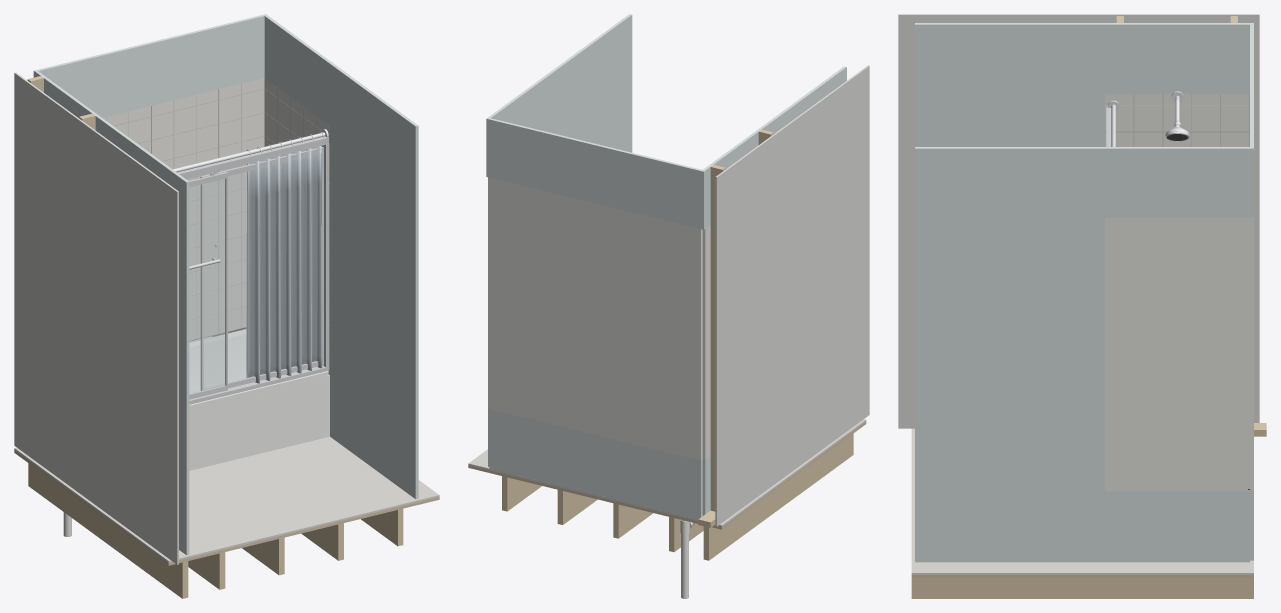
File: shower_slab.glb
3 renders of one model, left to right at view 1: azimuth 30°, elevation 25°; view 2: azimuth 150°, elevation 25°; view 3: azimuth 270°, elevation 25°, orthographic. The views are drawn at different scales.
Visible parts, largest first — view 1: wall_outside, walls_paint, door_glass, floor, wall_back, shower_curtain, glass_doors, tub_apron, joists, tub, wall_right, curtain_rod; view 2: wall_outside, wall_back, walls_paint, joists, framing, floor, valve_wall; view 3: walls_paint, wall_right, wall_outside, joists, valve_wall, floor, wall_back.
Part boxes in pixels (<box>): wall_outside: <box>14,72,178,564</box>; walls_paint: <box>33,14,418,555</box>; door_glass: <box>200,147,323,390</box>; floor: <box>14,436,439,565</box>; wall_back: <box>102,78,264,340</box>; shower_curtain: <box>246,146,322,383</box>; glass_doors: <box>177,136,329,404</box>; tub_apron: <box>189,374,329,470</box>; joists: <box>28,463,403,598</box>; tub: <box>189,329,328,409</box>; wall_right: <box>264,78,329,372</box>; curtain_rod: <box>173,129,328,172</box>; wall_outside: <box>715,65,869,526</box>; wall_back: <box>489,177,702,460</box>; walls_paint: <box>486,14,846,519</box>; joists: <box>502,433,853,560</box>; framing: <box>698,129,773,527</box>; floor: <box>468,419,866,529</box>; valve_wall: <box>702,225,710,459</box>; walls_paint: <box>915,23,1253,562</box>; wall_right: <box>1105,217,1249,491</box>; wall_outside: <box>898,14,1259,428</box>; joists: <box>911,578,1253,598</box>; valve_wall: <box>1105,93,1249,146</box>; floor: <box>911,428,1253,577</box>; wall_back: <box>1249,106,1253,489</box>.
Bounding box in the file's own units: 1.82 × 3 × 1.94.
